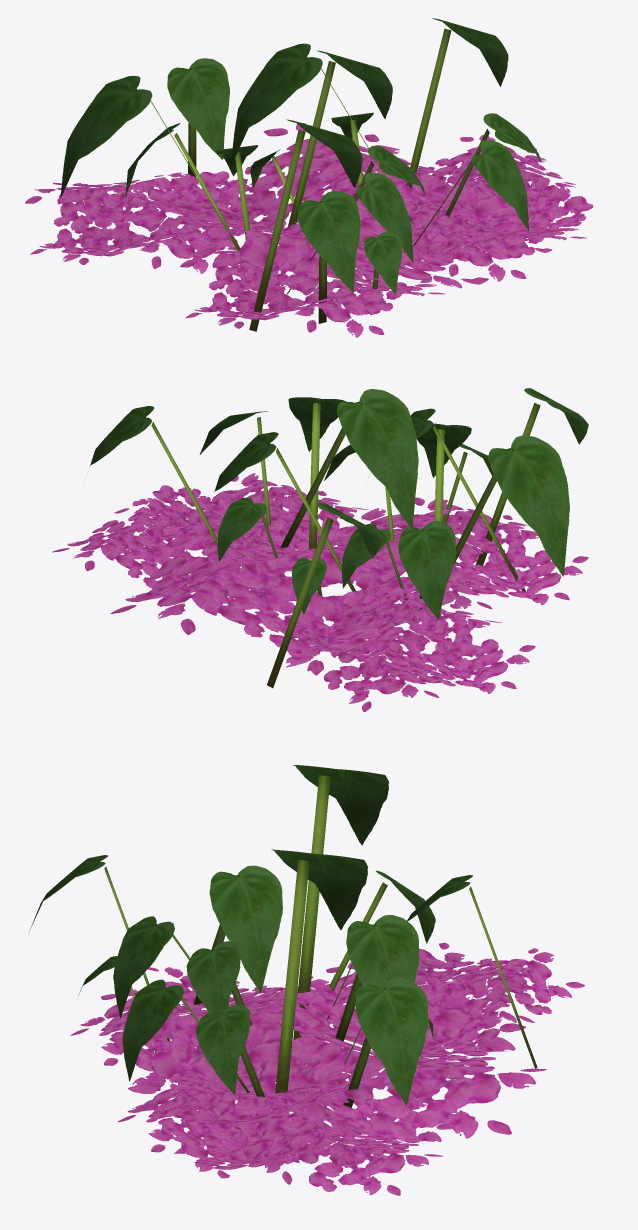
Rendered from leafplant2_purple_lod0.fbx.
3 views of the same model, one above another, from view 1: azimuth 30°, elevation 25°; view 2: azimuth 150°, elevation 25°; view 3: azimuth 270°, elevation 25° (orthographic). The views are drawn at different scales.
Visible parts, largest first — view 1: Mesh Object; view 2: Mesh Object; view 3: Mesh Object.
Part boxes in pixels (left/top/right/bottom): Mesh Object: left=25, top=18, right=593, bottom=337; Mesh Object: left=52, top=388, right=588, bottom=711; Mesh Object: left=29, top=765, right=584, bottom=1195.
Bounding box in the file's own units: 4.07 × 1.52 × 3.64.
